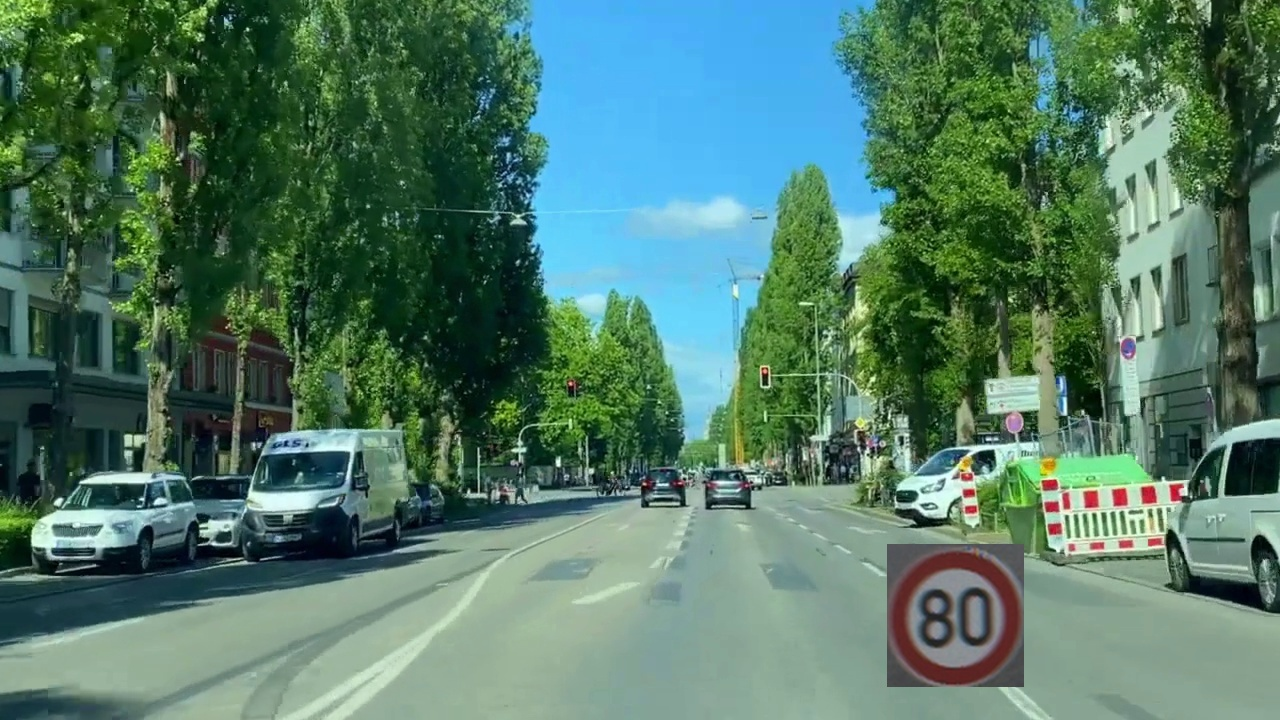Speed 80: (887, 544, 1024, 687)
